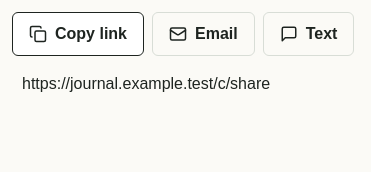
Test: ShareActions › copies a link and exposes email and text fallbacks
This screenshot has width=371, height=172.
What coordinates should you click on to do the following:
click the button "Copy link"
I would click on:
 (78, 34)
Its box is [12,12,144,56].
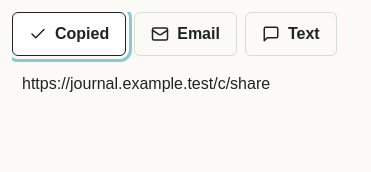
expect the button "Copied" is shown: met, box [12,12,126,56]
